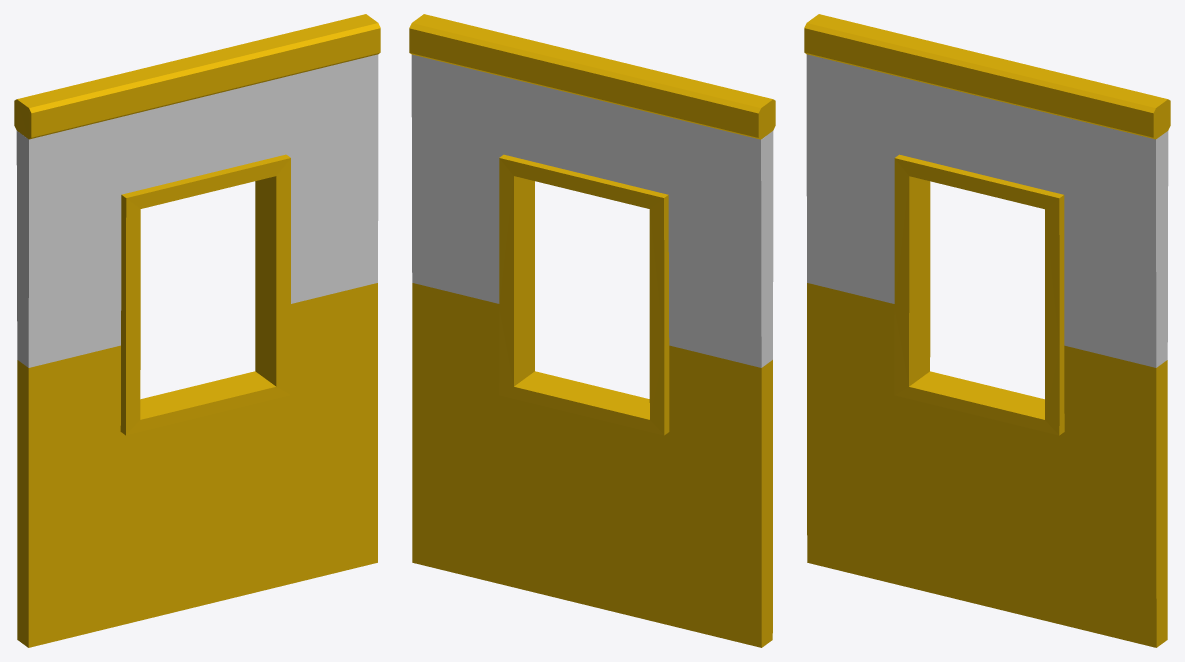
Rendered from wall_45.fbx.
3 renders of one model, left to right at view 1: azimuth 30°, elevation 25°; view 2: azimuth 150°, elevation 25°; view 3: azimuth 330°, elevation 25°, orthographic.
Visible parts, largest first — view 1: WALL_5.017; view 2: WALL_5.017; view 3: WALL_5.017.
Part boxes in pixels (x1,y1,x2,y2): WALL_5.017: [14, 14, 380, 647]; WALL_5.017: [409, 14, 775, 647]; WALL_5.017: [804, 14, 1170, 647].
Size of the model in its own units: 3.27 by 4.83 by 0.3458.
